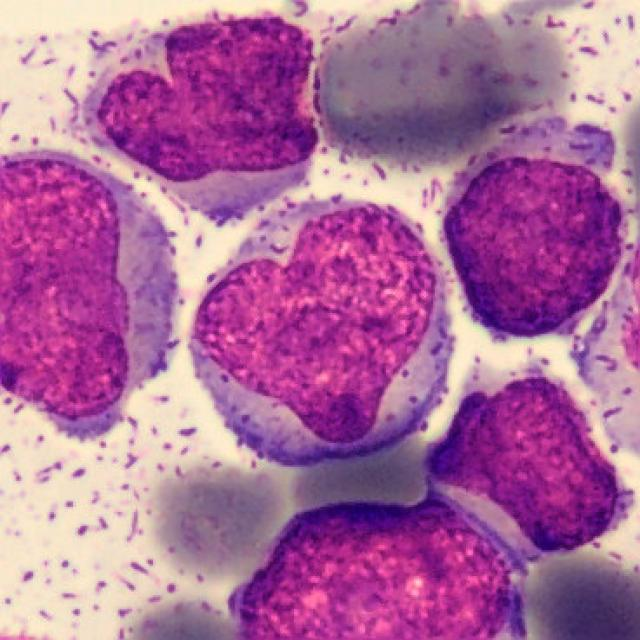Mieloblasto: (190, 197, 442, 465), (82, 17, 320, 228), (0, 154, 179, 432), (442, 118, 628, 342), (233, 498, 525, 640), (428, 375, 626, 571)
